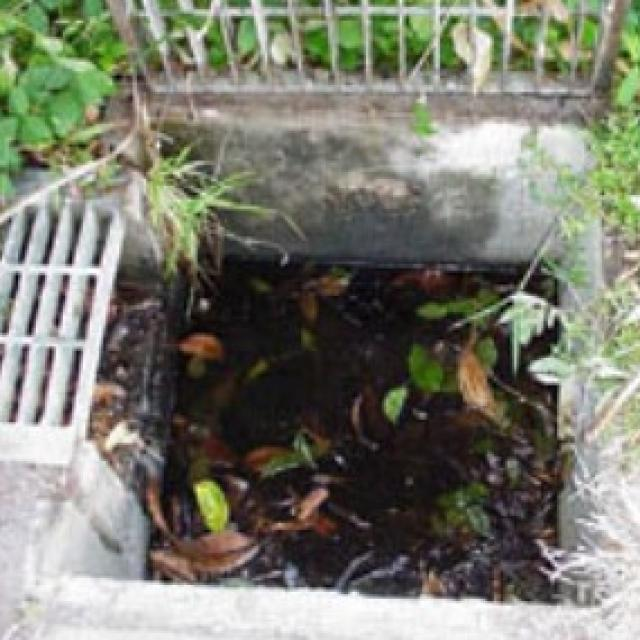Breeding Place: (99, 92, 638, 640)
